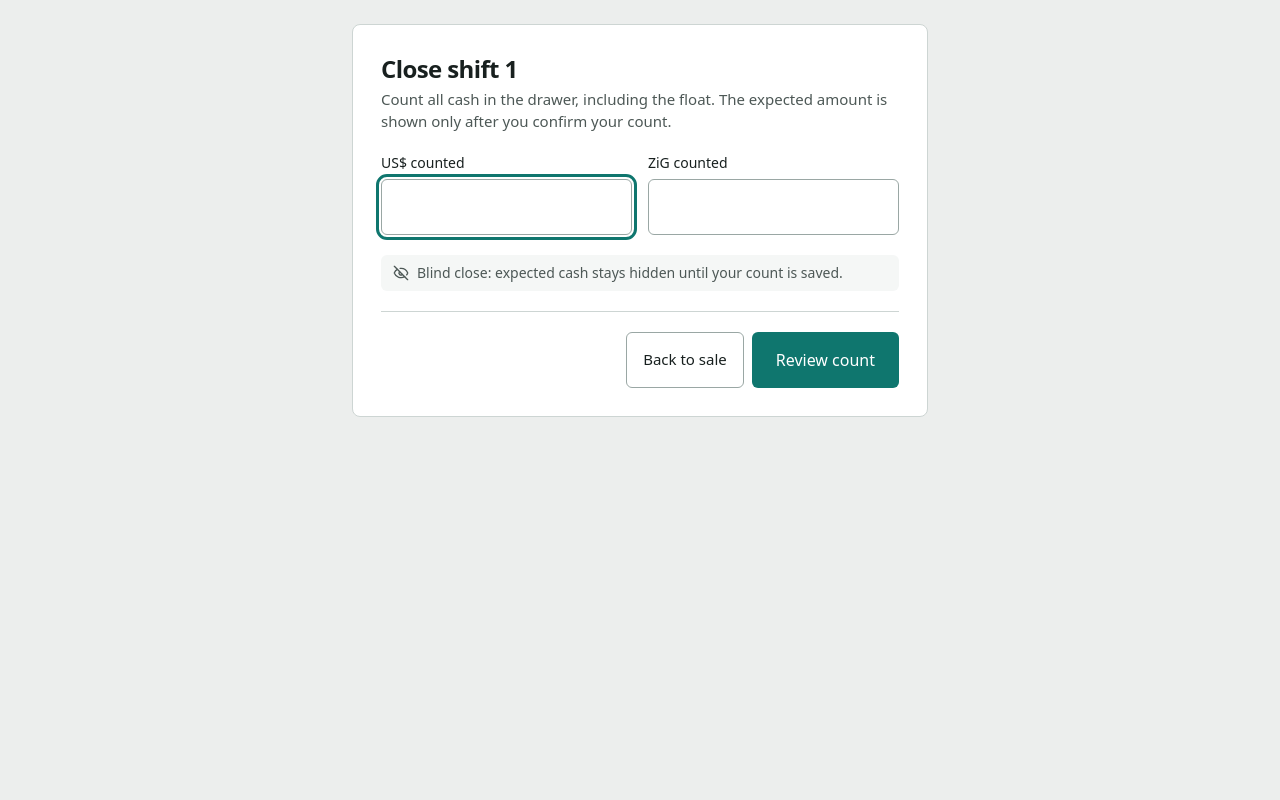
it: blind shift close › reveals expected cash only after the cashier confirms the count
The image size is (1280, 800).
Expected: the text "57.50" is not shown
Type "57" into the field labelled "US$ counted" at (506, 206), box [381, 178, 632, 234]
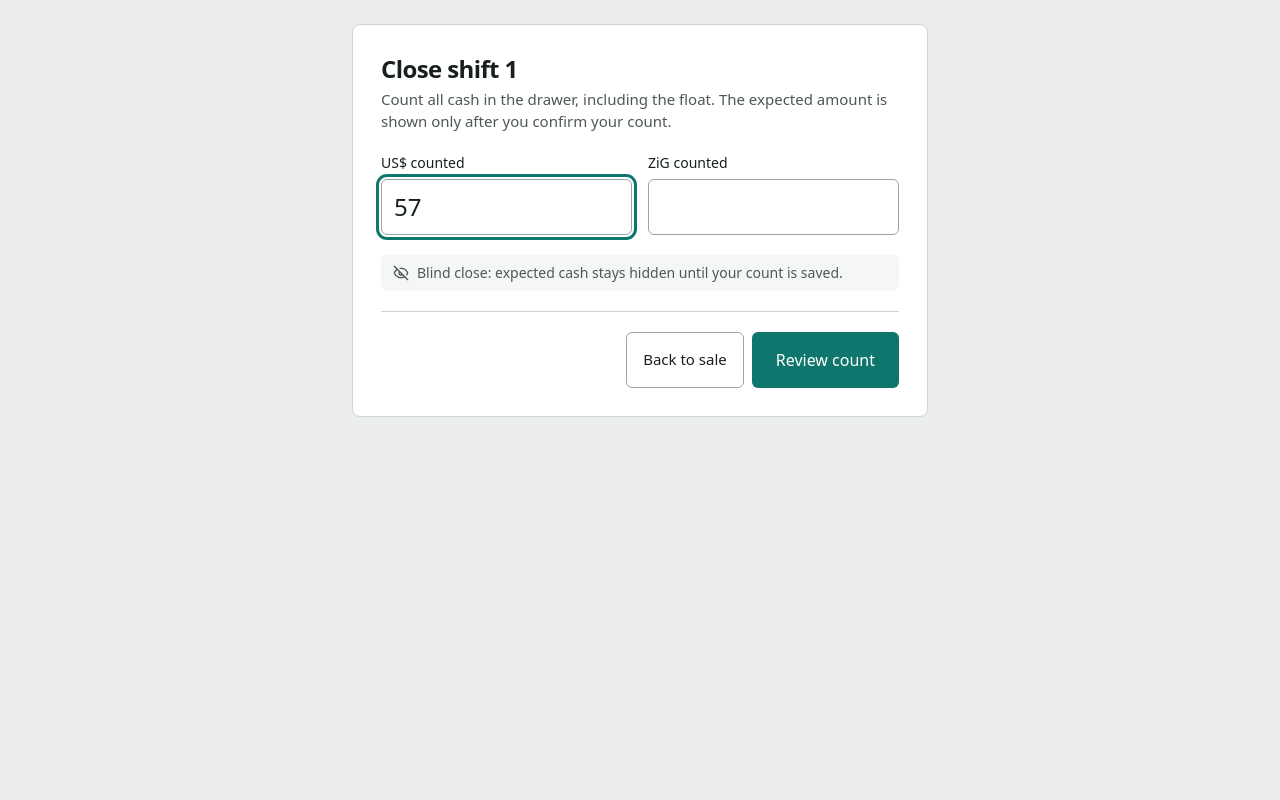
Type "0" into the field labelled "ZiG counted" at (774, 206), box [648, 178, 899, 234]
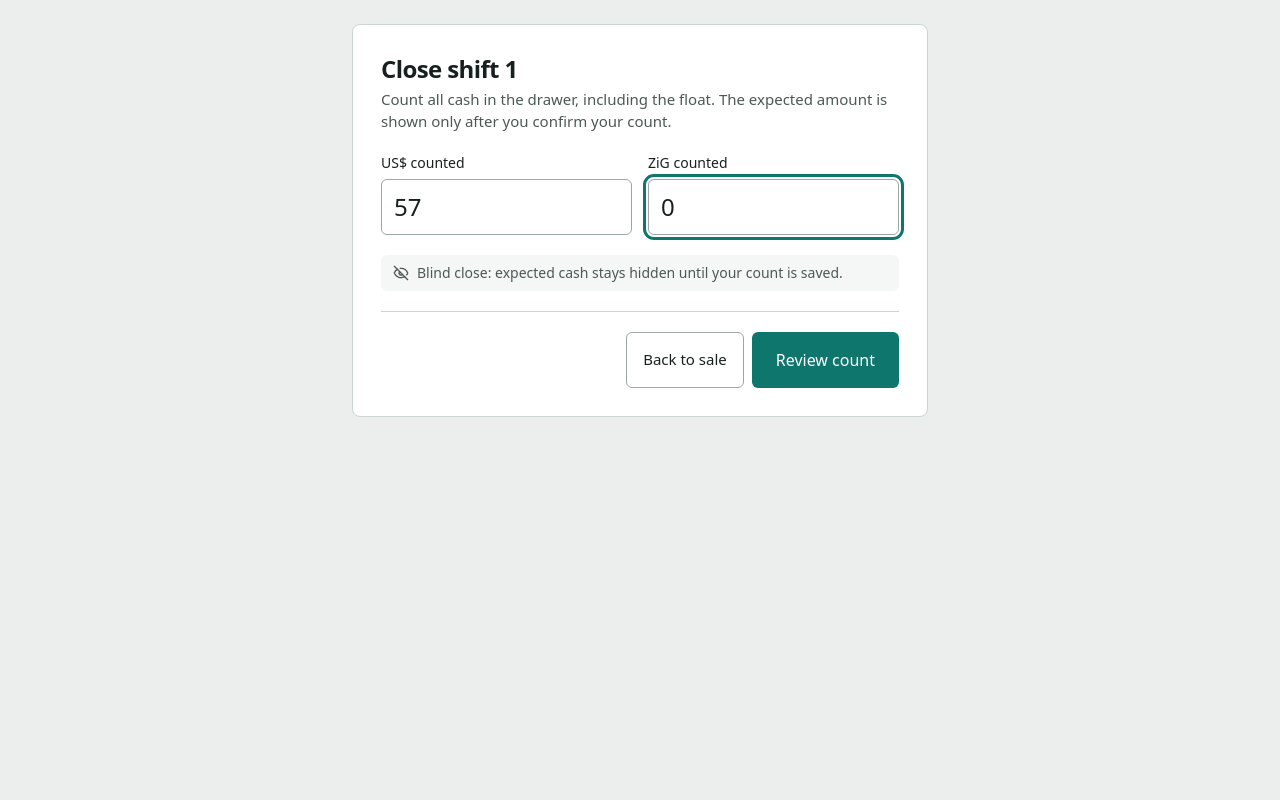
Click the button "Review count" at (825, 360), box [752, 332, 899, 388]
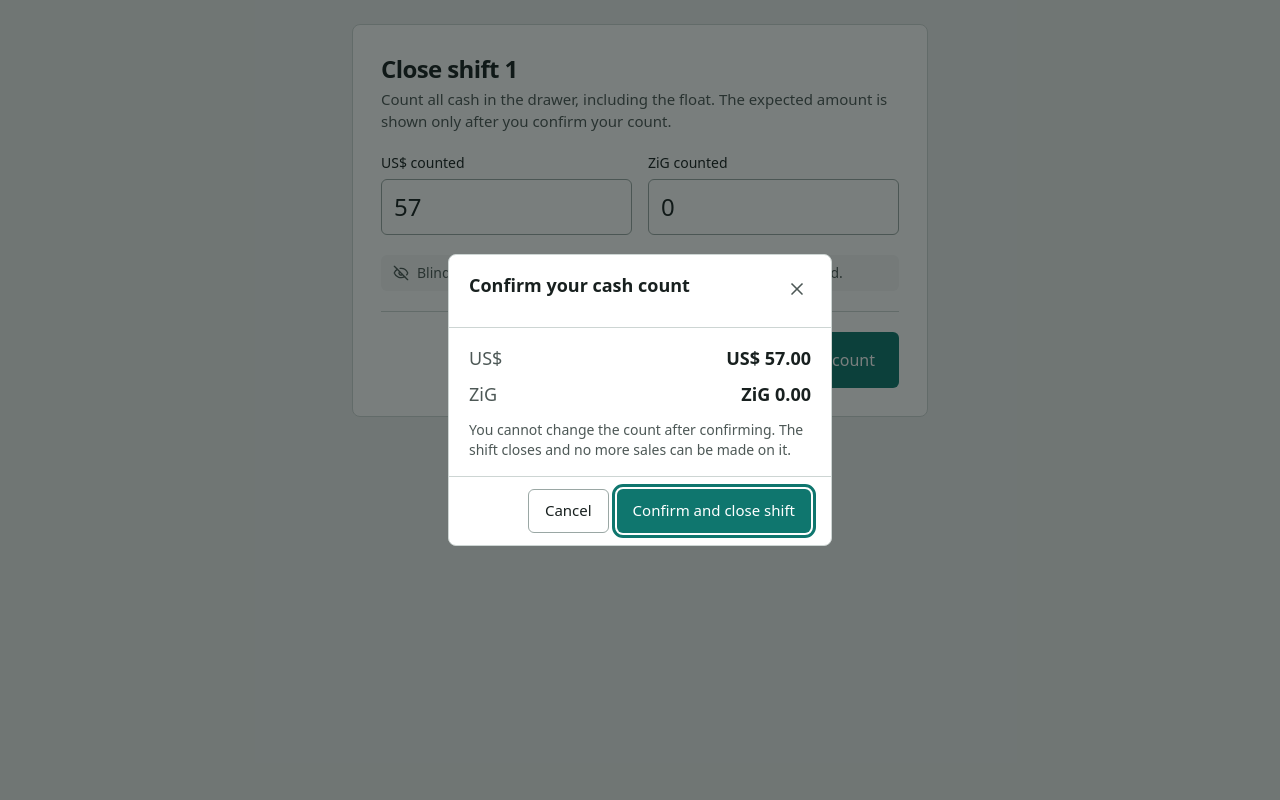
Expected: the text "57.50" is not shown
Click the button "Confirm and close shift" at (714, 511), box [617, 489, 811, 533]
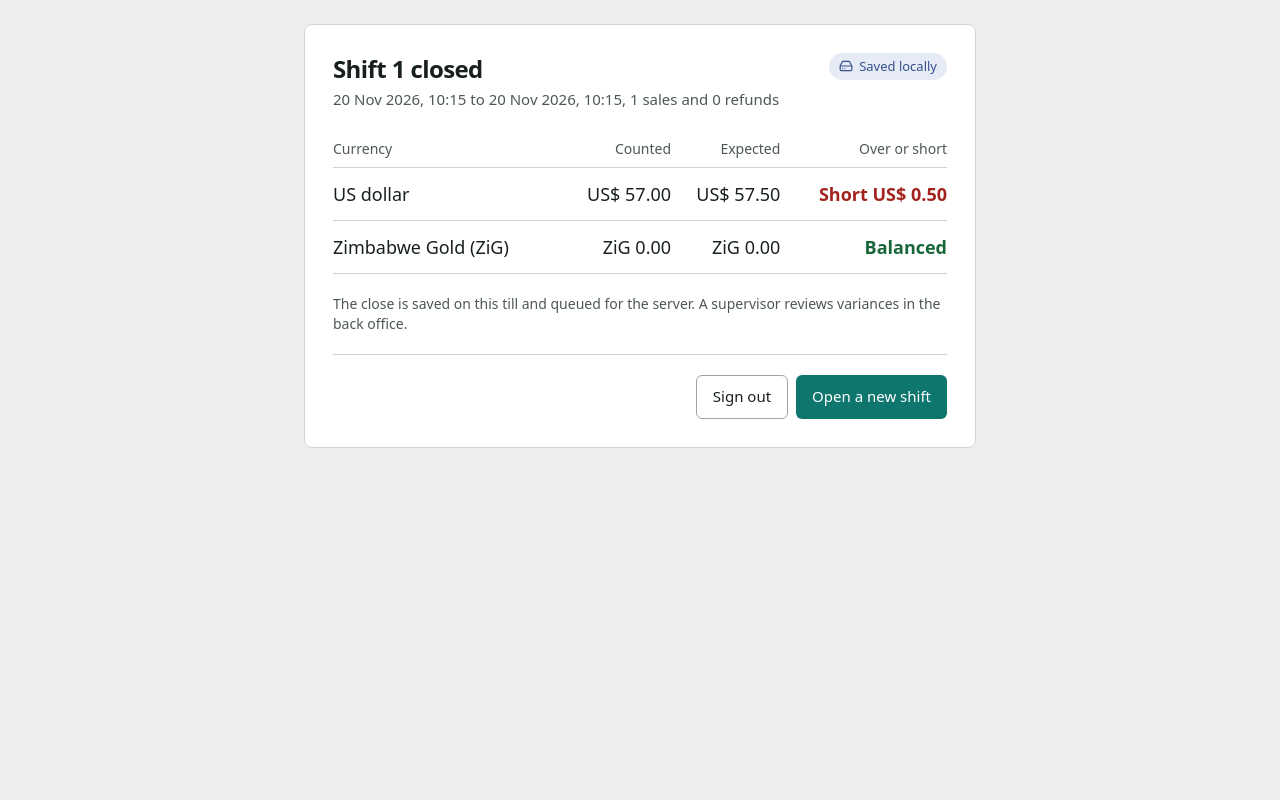
Result: the heading "Shift 1 closed" is shown at [333, 52, 483, 85]
Result: the text "US$ 57.50" is shown at [671, 167, 780, 220]
Result: the text "Short US$ 0.50" is shown at [780, 167, 947, 220]
